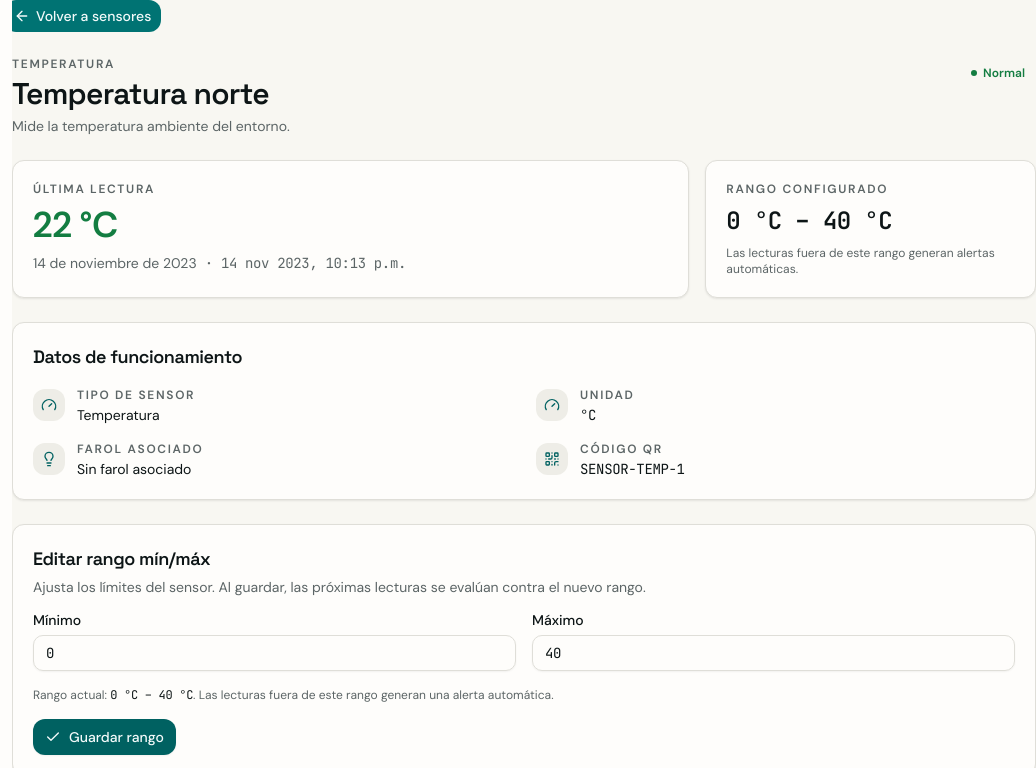
Test: SensorDetailPage — configurable range and automatic alerts › saves a new min/max range through the backend
This screenshot has width=1036, height=768.
Step 1. Replace the text in the number field with test id "sensor.range_min.input" with "5" → coordinates (274, 653), box [33,635,516,671]
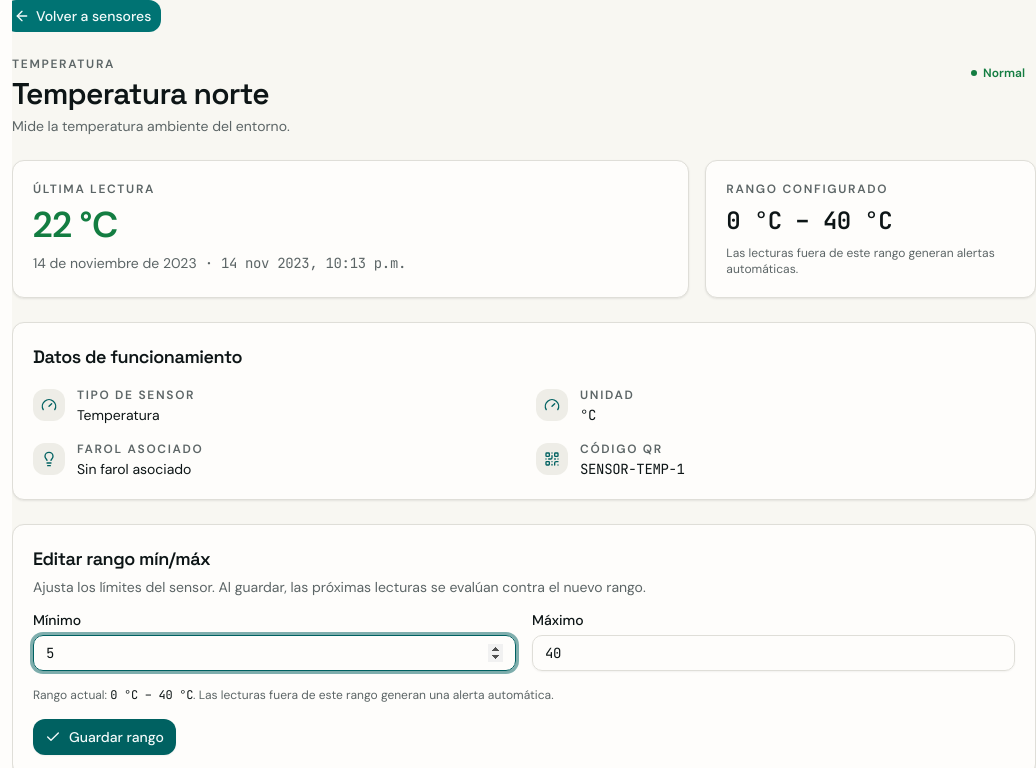
Step 2. Replace the text in the number field with test id "sensor.range_max.input" with "30" → coordinates (774, 653), box [532,635,1015,671]
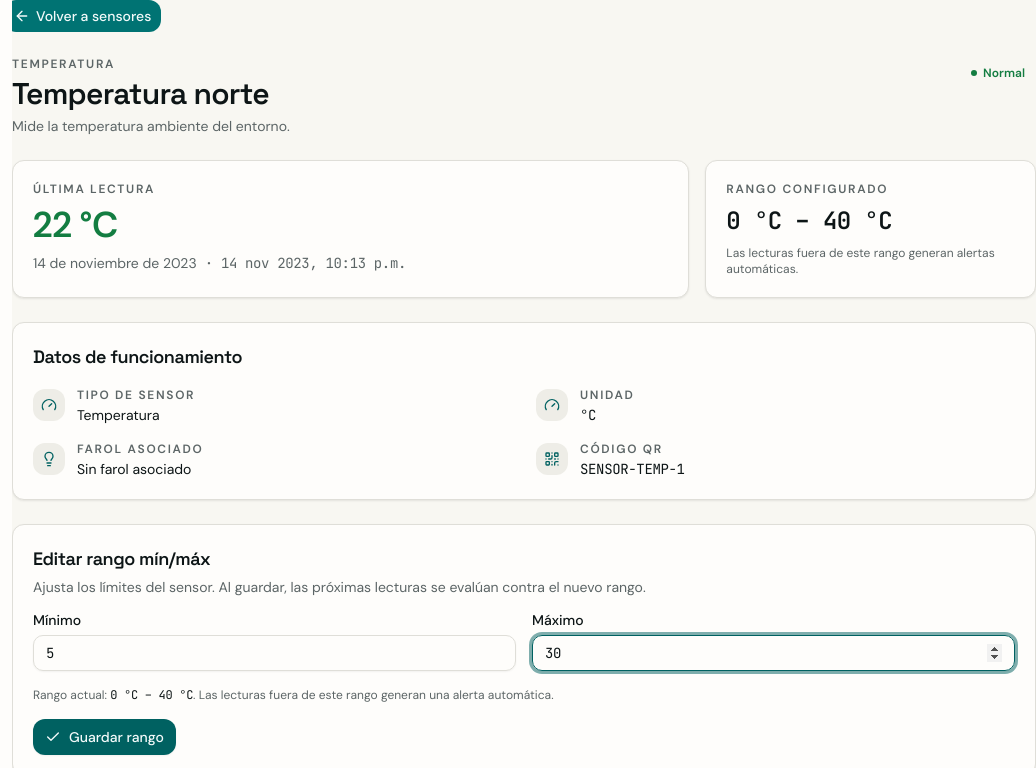
Step 3. Click the button with test id "sensor.range_save_button" → coordinates (104, 737), box [33,719,176,755]
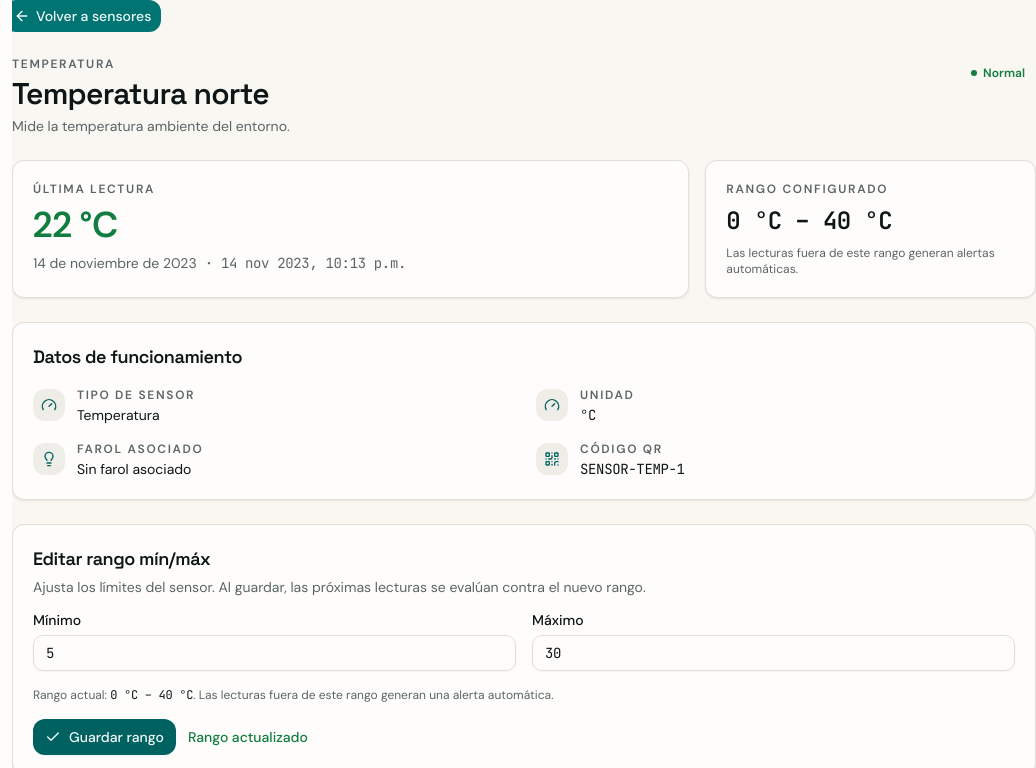
Expected: the text "Rango actualizado" is shown, [188,727,308,747]
